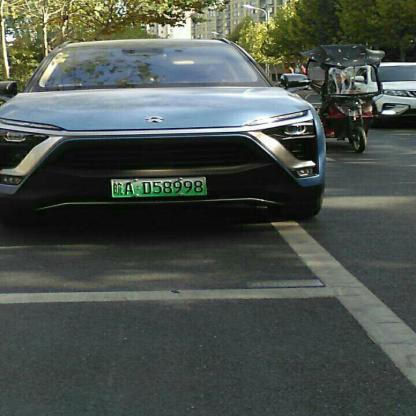lp: (110, 177, 206, 197)
